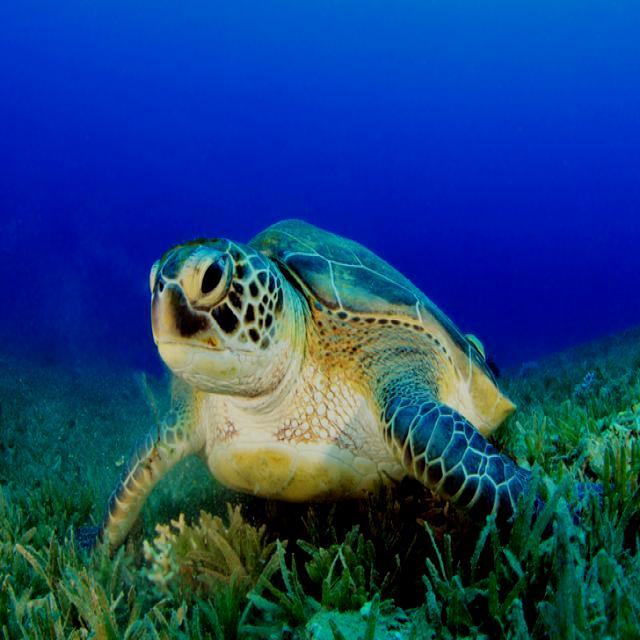Sea turtle: (74, 217, 614, 603)
